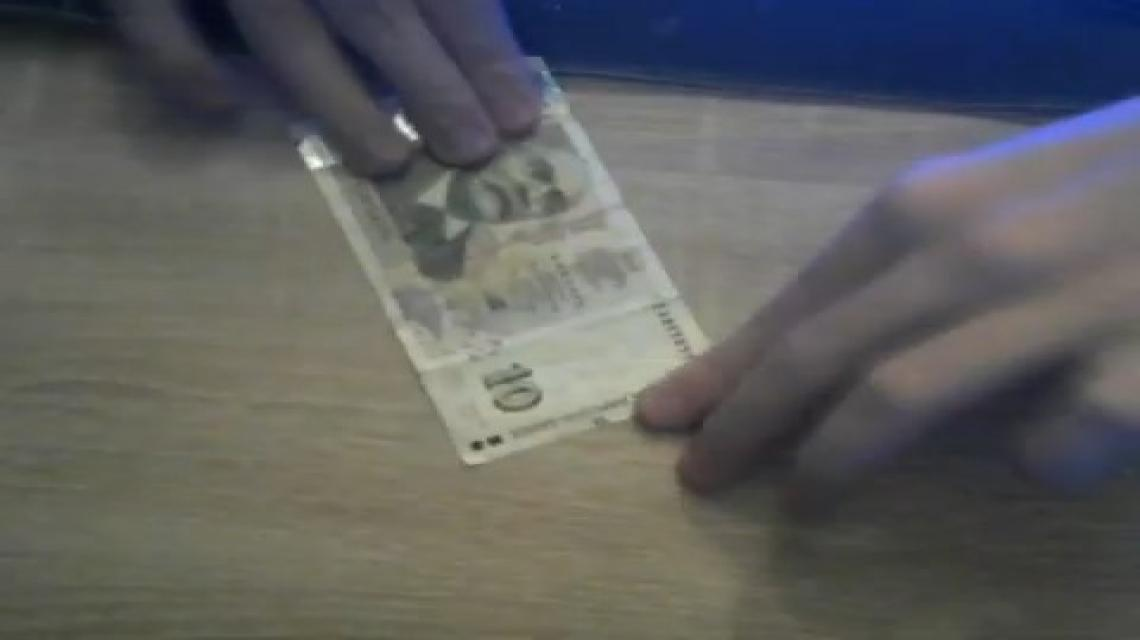10leva: (223, 0, 710, 466)
